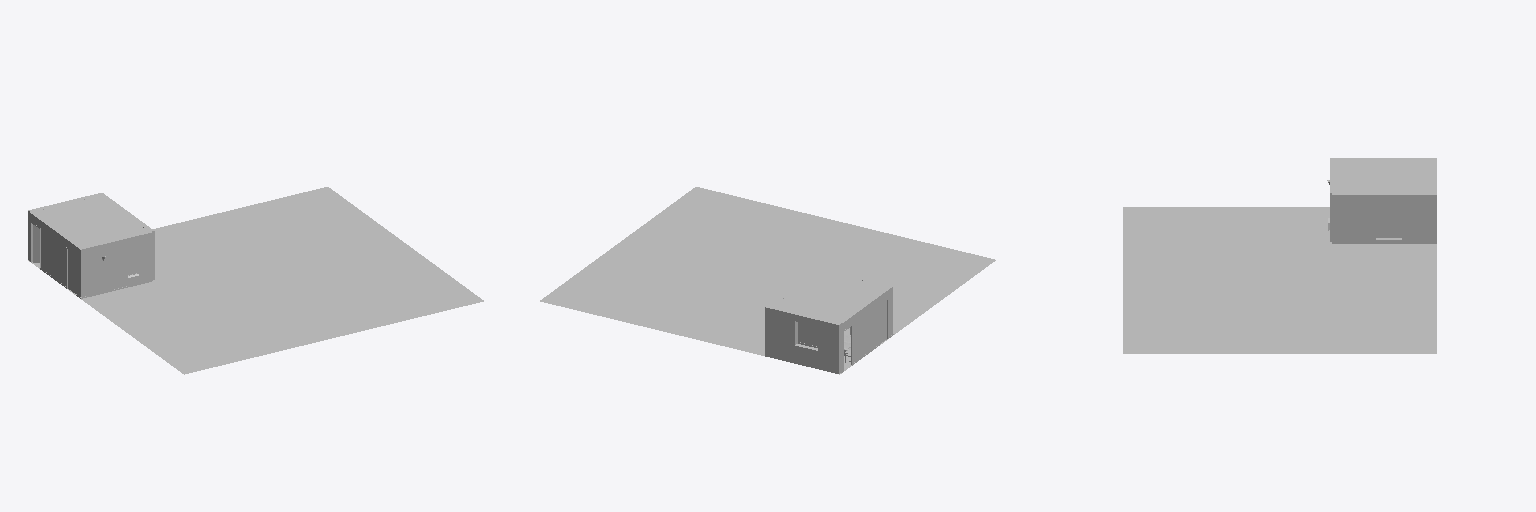
The model's file is bedroom.obj.
The picture shows the model from 3 angles: view 1: azimuth 30°, elevation 25°; view 2: azimuth 150°, elevation 25°; view 3: azimuth 270°, elevation 25°; orthographic projection.
Visible parts, largest first — view 1: ground_1, wall_2_15, room_19_56, wall_13_52; view 2: ground_1, room_19_56, wall_4_29, wall_13_52; view 3: ground_1, wall_5_36, room_19_56.
Part boxes in pixels (bbox=[...]): ground_1: bbox=[28, 187, 483, 374]; wall_2_15: bbox=[81, 233, 151, 296]; room_19_56: bbox=[32, 196, 148, 247]; wall_13_52: bbox=[51, 228, 62, 283]; ground_1: bbox=[540, 187, 995, 374]; room_19_56: bbox=[773, 271, 889, 322]; wall_4_29: bbox=[765, 307, 839, 373]; wall_13_52: bbox=[863, 299, 875, 355]; ground_1: bbox=[1123, 207, 1436, 353]; wall_5_36: bbox=[1332, 195, 1436, 243]; room_19_56: bbox=[1333, 159, 1430, 191].
Size of the model in its own units: 1600 by 250 by 1445.